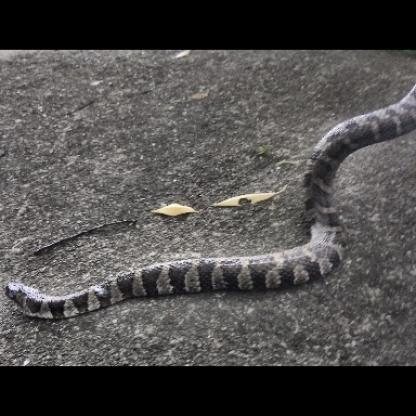Snake: (0, 141, 364, 322), (303, 65, 416, 168)
